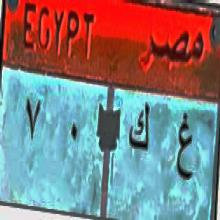0: (65, 113, 81, 152)
7: (23, 92, 41, 148)
ghayn: (175, 107, 195, 192)
kaaf: (126, 97, 152, 169)
